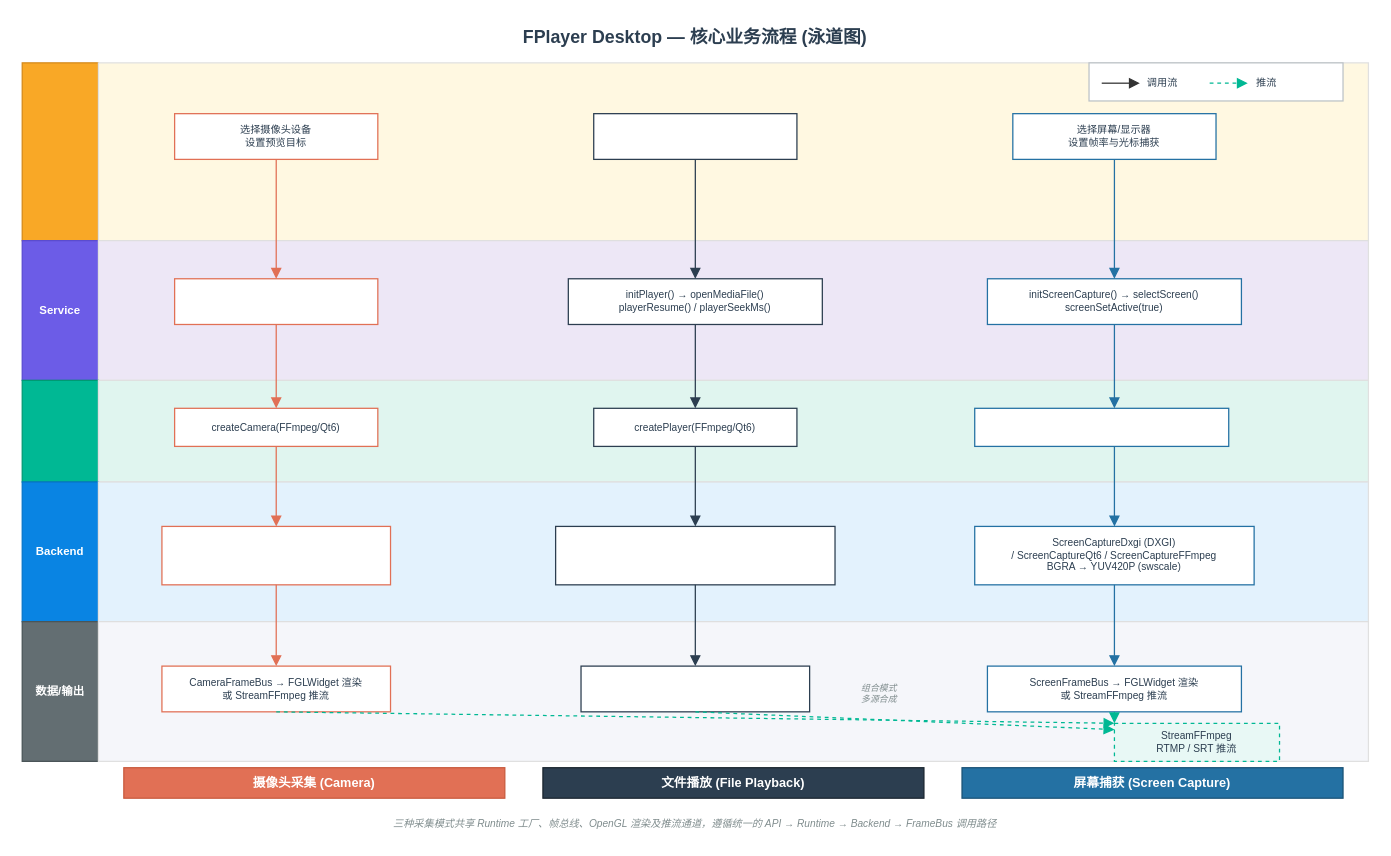
Some shapes in this 1391 by 856 pixel diagram are drawn without their labels. Each missing label, with the centre of its shape:
CameraFFmpeg (dshow) / CameraQt6 (QCamera) YUV420P 解码输出: (x=276, y=555)
createScreenCapture(Dxgi/Qt6/FFmpeg): (x=1101, y=426)
FGLWidget (OpenGL 渲染) 或 compose 合成后推流: (x=695, y=688)
initCamera() → selectCamera() cameraResume(): (x=275, y=300)
PlayerFFmpeg (avformat/avcodec) / PlayerQt6 (QMediaPlayer) 软件解码 → YUV420P: (x=694, y=555)
Runtime: (x=59, y=430)
UI 层: (x=59, y=151)
选择媒体文件 播放/暂停/跳转控制: (x=694, y=135)
